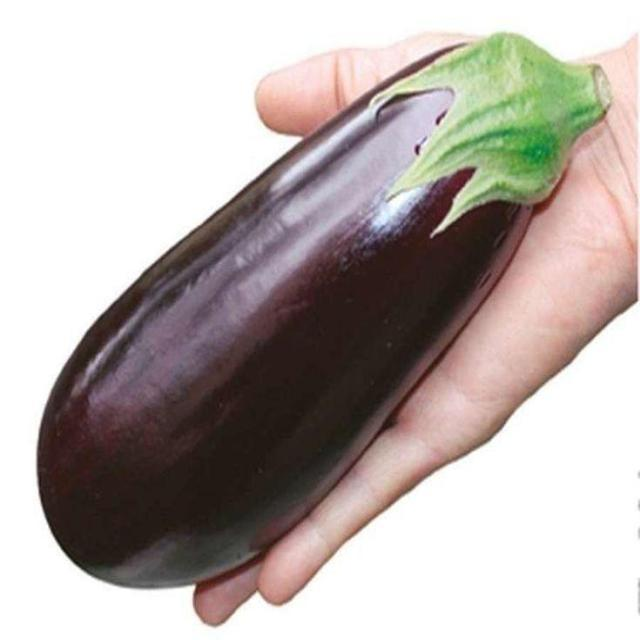eggplant: (36, 31, 613, 589)
